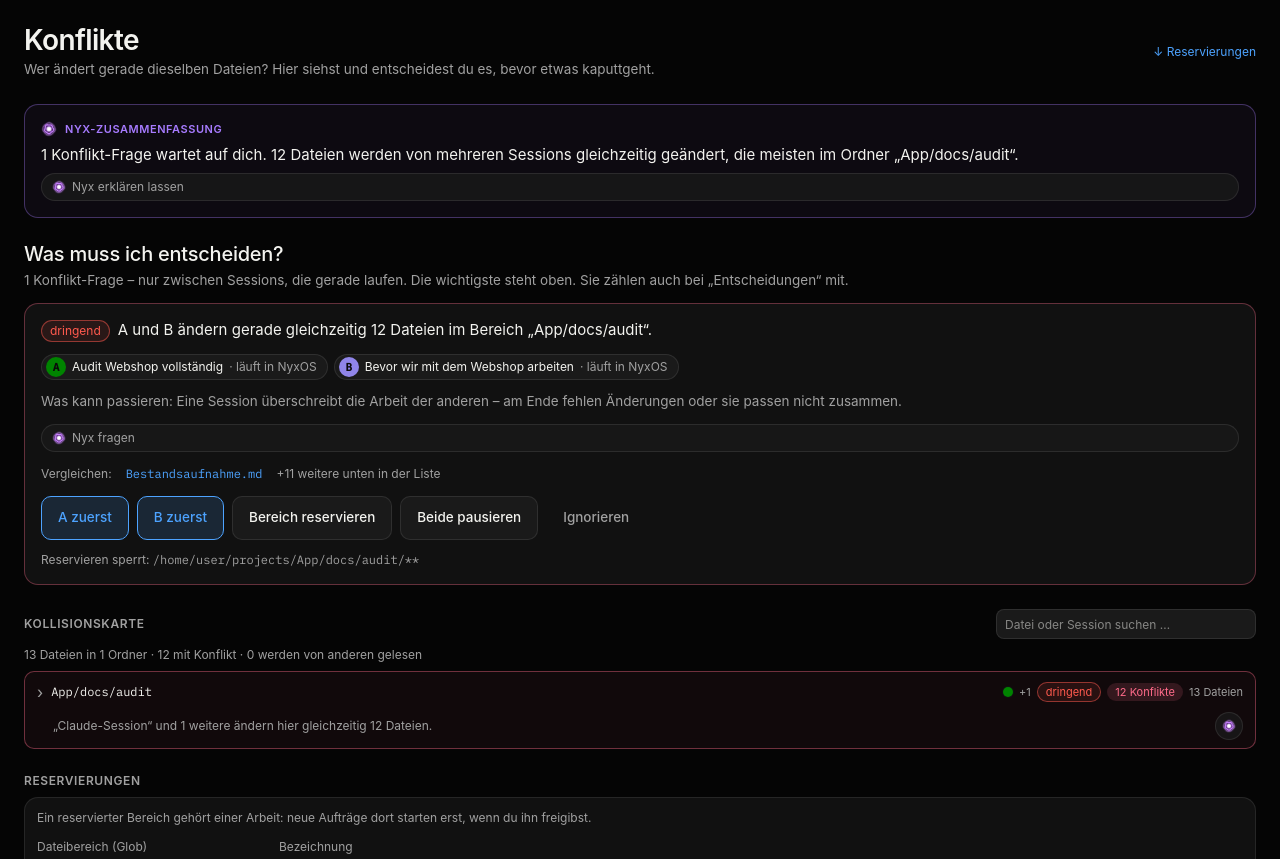
Test case: „Was muss ich entscheiden?“ › Fehler vom Server (z. B. schon reserviert) erscheint als verständliche Meldung
Click the button "A zuerst". click: (85, 518)
box: [41,496,129,540]
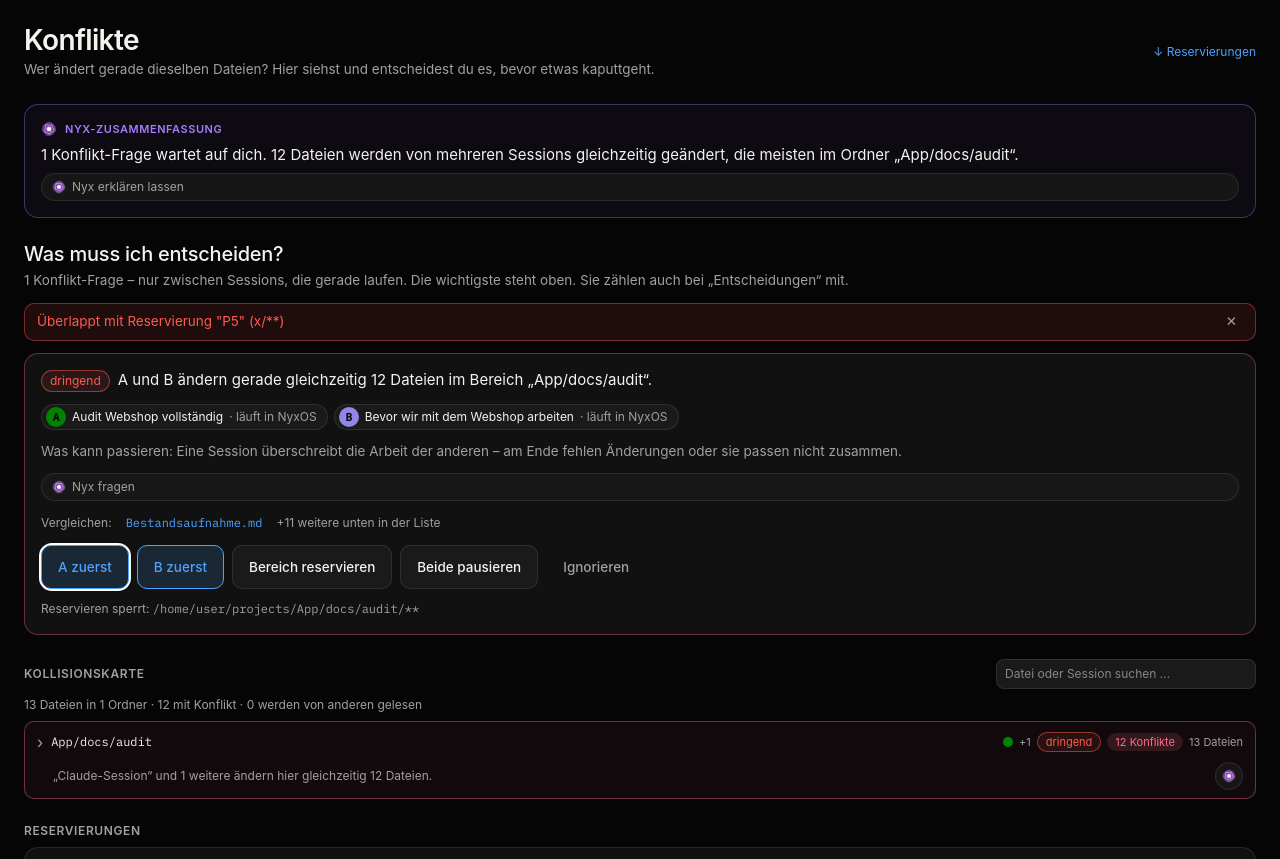
Check: the message shows "Überlappt mit Reservierung", box [37,313,284,329]
